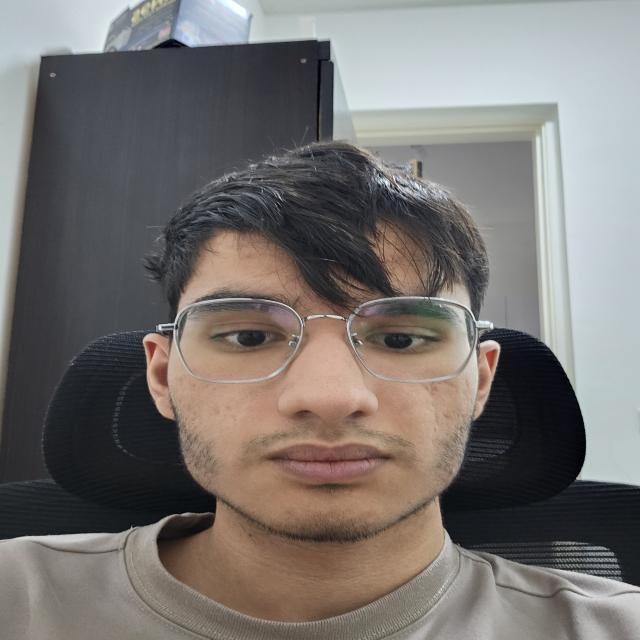person: (2, 138, 638, 638)
